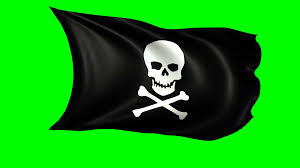Jolly Roger Flag: (46, 4, 262, 147)
